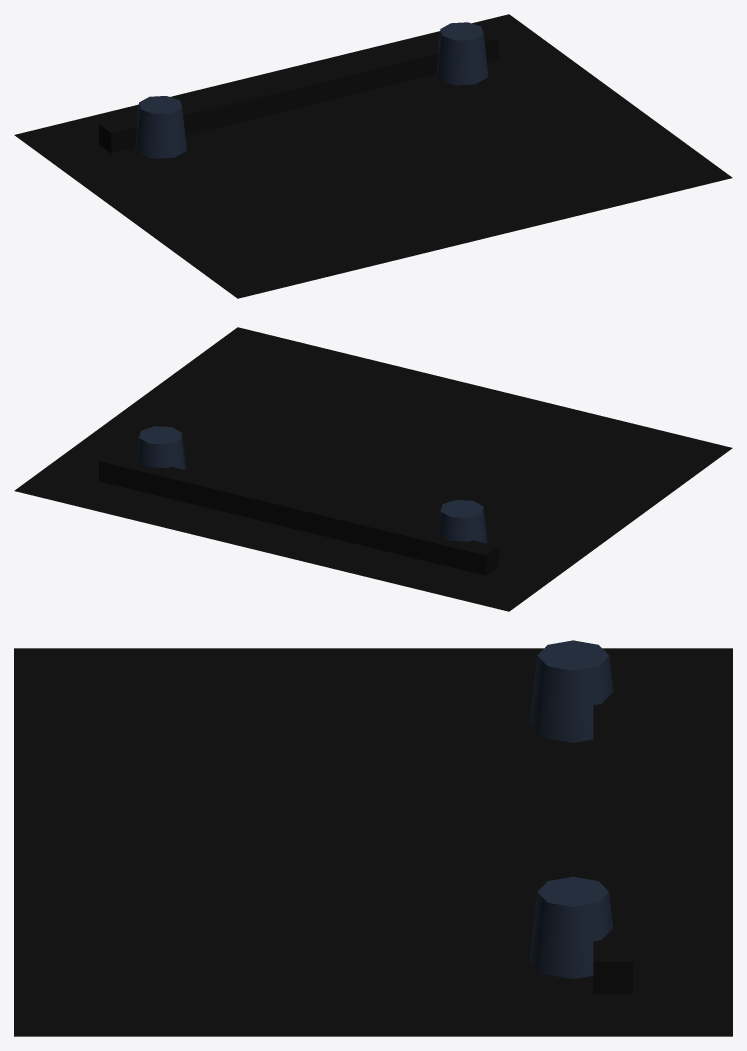
3 renders of one model, top to bottom at view 1: azimuth 30°, elevation 25°; view 2: azimuth 150°, elevation 25°; view 3: azimuth 270°, elevation 25°, orthographic. The views are drawn at different scales.
Visible parts, largest first — view 1: scenario_base_floor, LT_04; view 2: scenario_base_floor, LT_04; view 3: scenario_base_floor, LT_04.
Part boxes in pixels (x1=…): scenario_base_floor: x1=14, y1=14, x2=732, y2=298; LT_04: x1=99, y1=22, x2=498, y2=158; scenario_base_floor: x1=14, y1=327, x2=732, y2=611; LT_04: x1=99, y1=426, x2=498, y2=575; scenario_base_floor: x1=14, y1=648, x2=732, y2=1036; LT_04: x1=529, y1=640, x2=632, y2=994.
Bounding box in the file's own units: 46 × 3.8 × 36.
